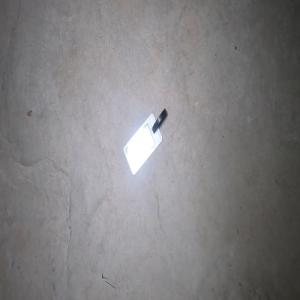LuggageTag: (122, 107, 167, 176)
